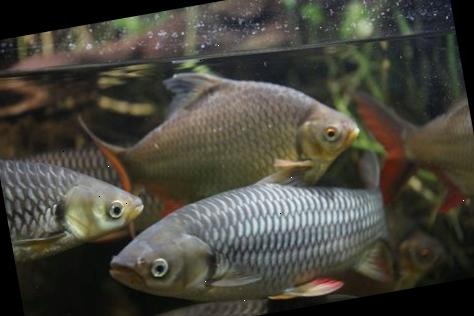fish: (72, 42, 370, 230), (94, 140, 401, 316), (0, 130, 150, 263), (353, 71, 474, 226)
